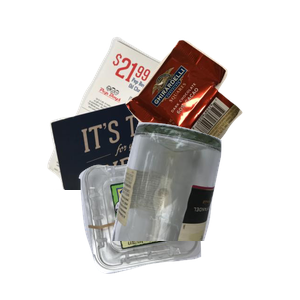glass: (109, 120, 300, 300)
paper: (45, 34, 230, 214)
plastic: (76, 151, 270, 300)
trash: (123, 37, 300, 192)
